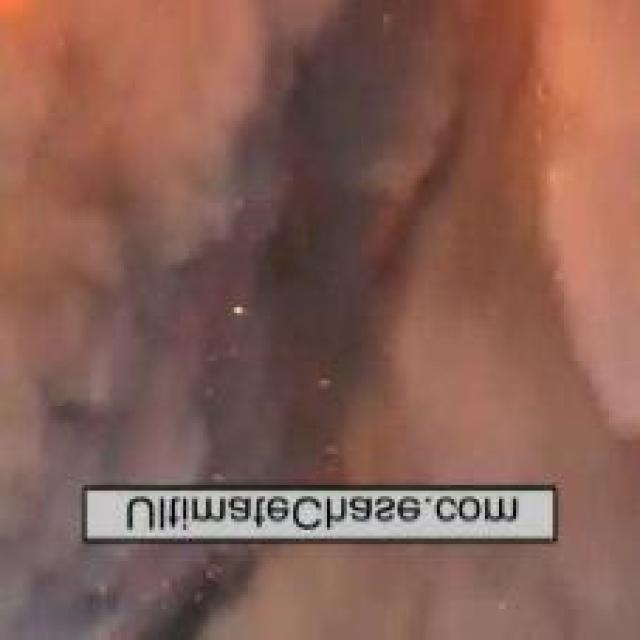smoke: (13, 4, 622, 477)
